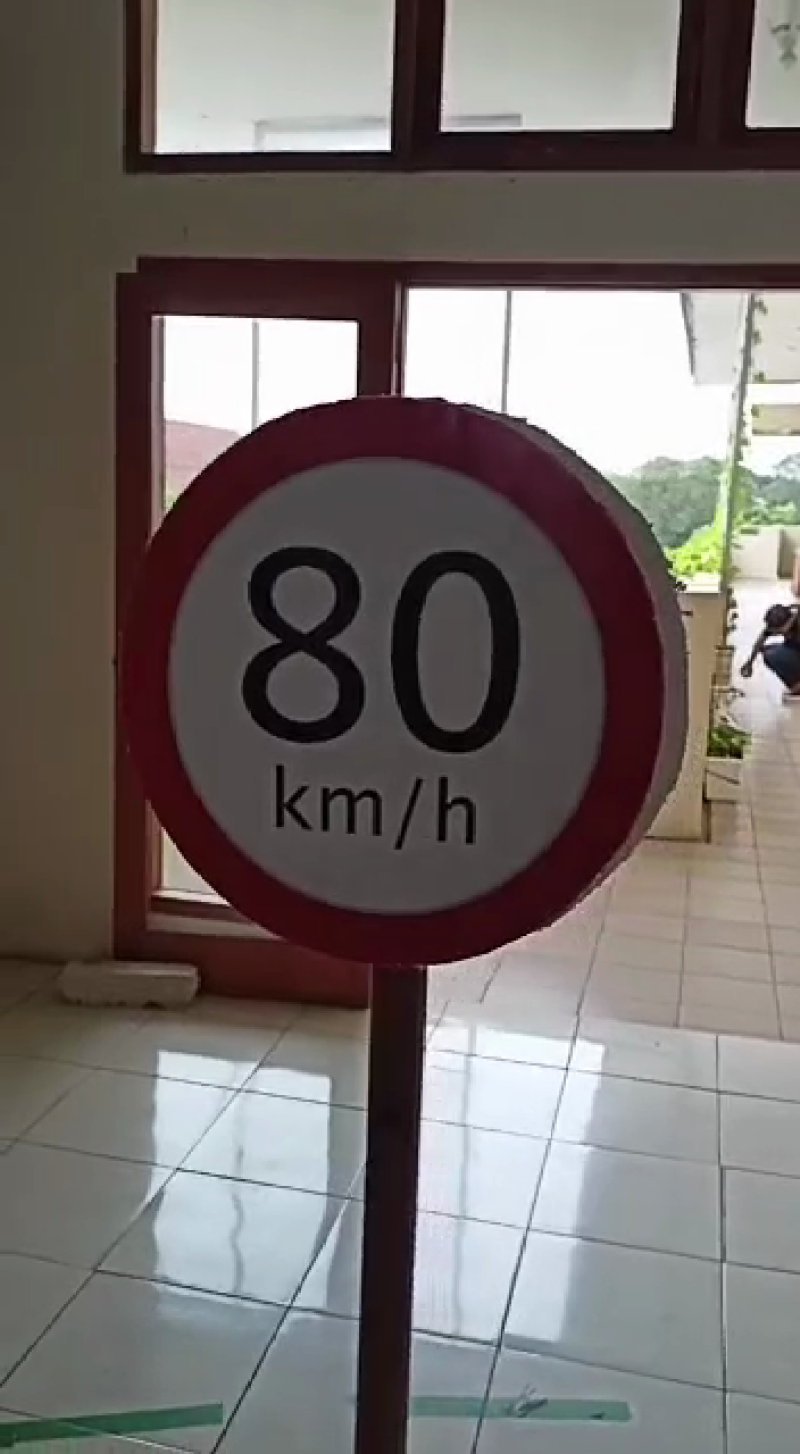batas maksimal 80kmperjam: (104, 392, 675, 985)
